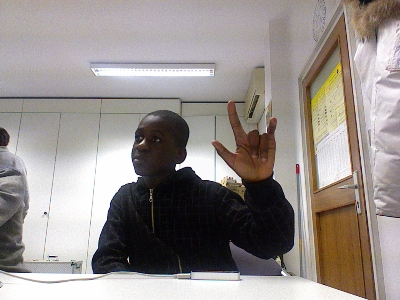我爱你: (209, 98, 278, 182)
